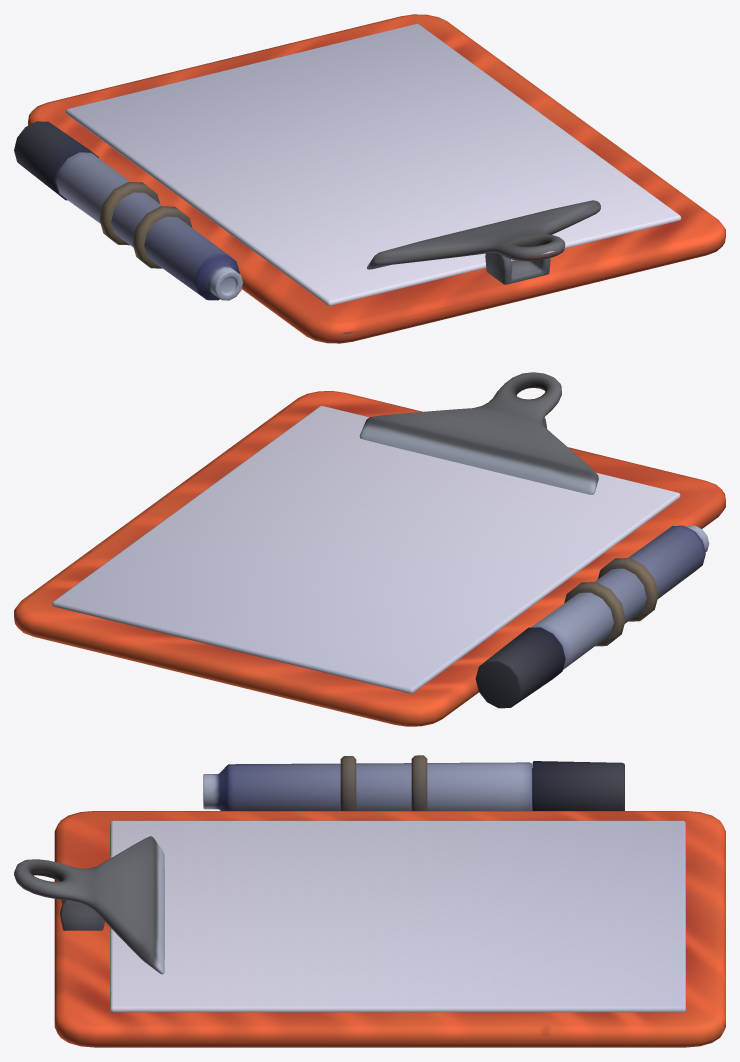
Rendered from Pad.fbx.
3 views of the same model, one above another, from view 1: azimuth 30°, elevation 25°; view 2: azimuth 150°, elevation 25°; view 3: azimuth 270°, elevation 25° (orthographic). The views are drawn at different scales.
Visible parts, largest first — view 1: Cube.002, Pad, Cylinder.001, Cube.003, Cylinder.003, Cylinder.004; view 2: Cube.002, Pad, Cube.003, Cylinder.001, Cylinder.003, Cylinder.004; view 3: Cube.002, Pad, Cylinder.001, Cube.003, Cylinder.003, Cylinder.004.
Part boxes in pixels (left/top/right/bottom): Cube.002: left=65, top=24, right=681, bottom=305; Pad: left=28, top=14, right=725, bottom=343; Cylinder.001: left=56, top=152, right=242, bottom=300; Cube.003: left=367, top=200, right=600, bottom=269; Cylinder.003: left=14, top=121, right=98, bottom=200; Cylinder.004: left=99, top=182, right=192, bottom=268; Cube.002: left=52, top=406, right=680, bottom=693; Pad: left=14, top=391, right=725, bottom=726; Cube.003: left=359, top=372, right=598, bottom=494; Cylinder.001: left=531, top=525, right=709, bottom=669; Cylinder.003: left=475, top=627, right=565, bottom=708; Cylinder.004: left=564, top=558, right=658, bottom=646; Cube.002: left=110, top=820, right=685, bottom=1012; Pad: left=54, top=811, right=725, bottom=1047; Cylinder.001: left=203, top=762, right=532, bottom=810; Cube.003: left=14, top=836, right=164, bottom=974; Cylinder.003: left=532, top=761, right=624, bottom=810; Cylinder.004: left=340, top=755, right=427, bottom=810.
Size of the model in its own units: 419 by 504 by 63.82.
